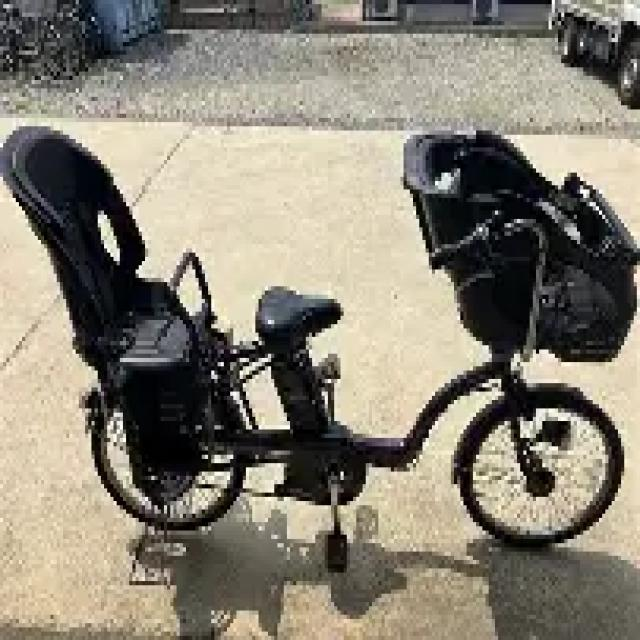battery: (275, 360, 327, 440)
childseat: (0, 127, 230, 481), (395, 123, 640, 368)
